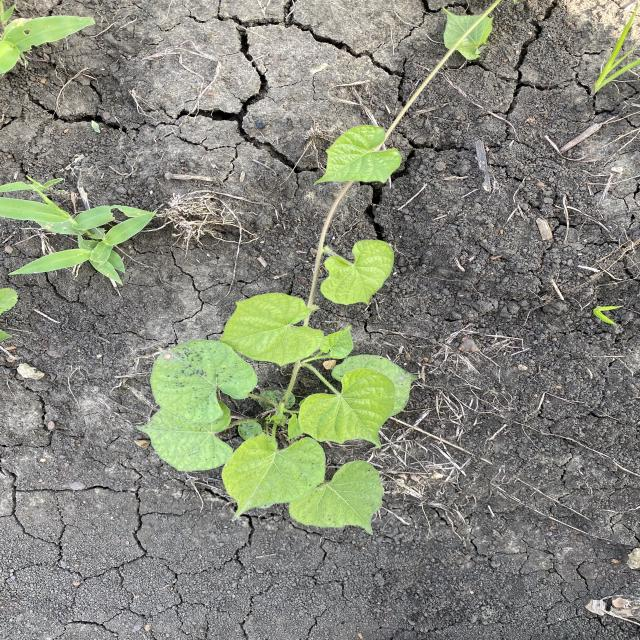MorningGlory: (134, 1, 503, 537)
